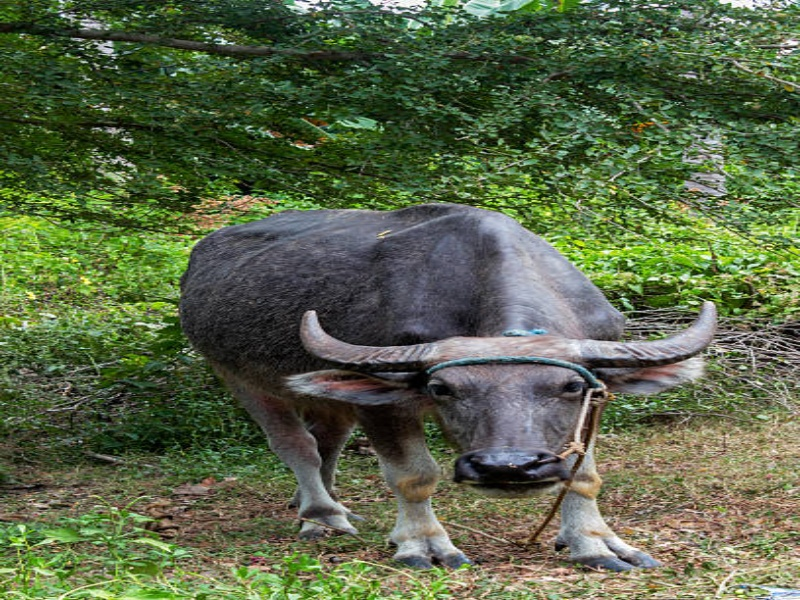buffalo: (171, 199, 721, 582)
